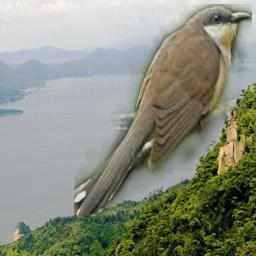Cuckoo: (74, 4, 252, 218)
